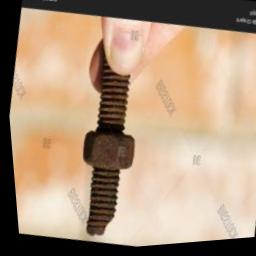Corroded-Nut-and-Bolt: (81, 92, 132, 237)
